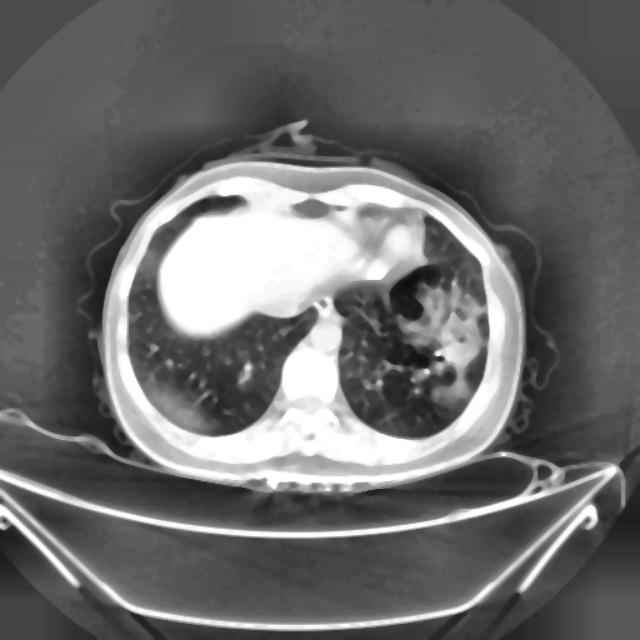covid: (88, 119, 533, 493)
